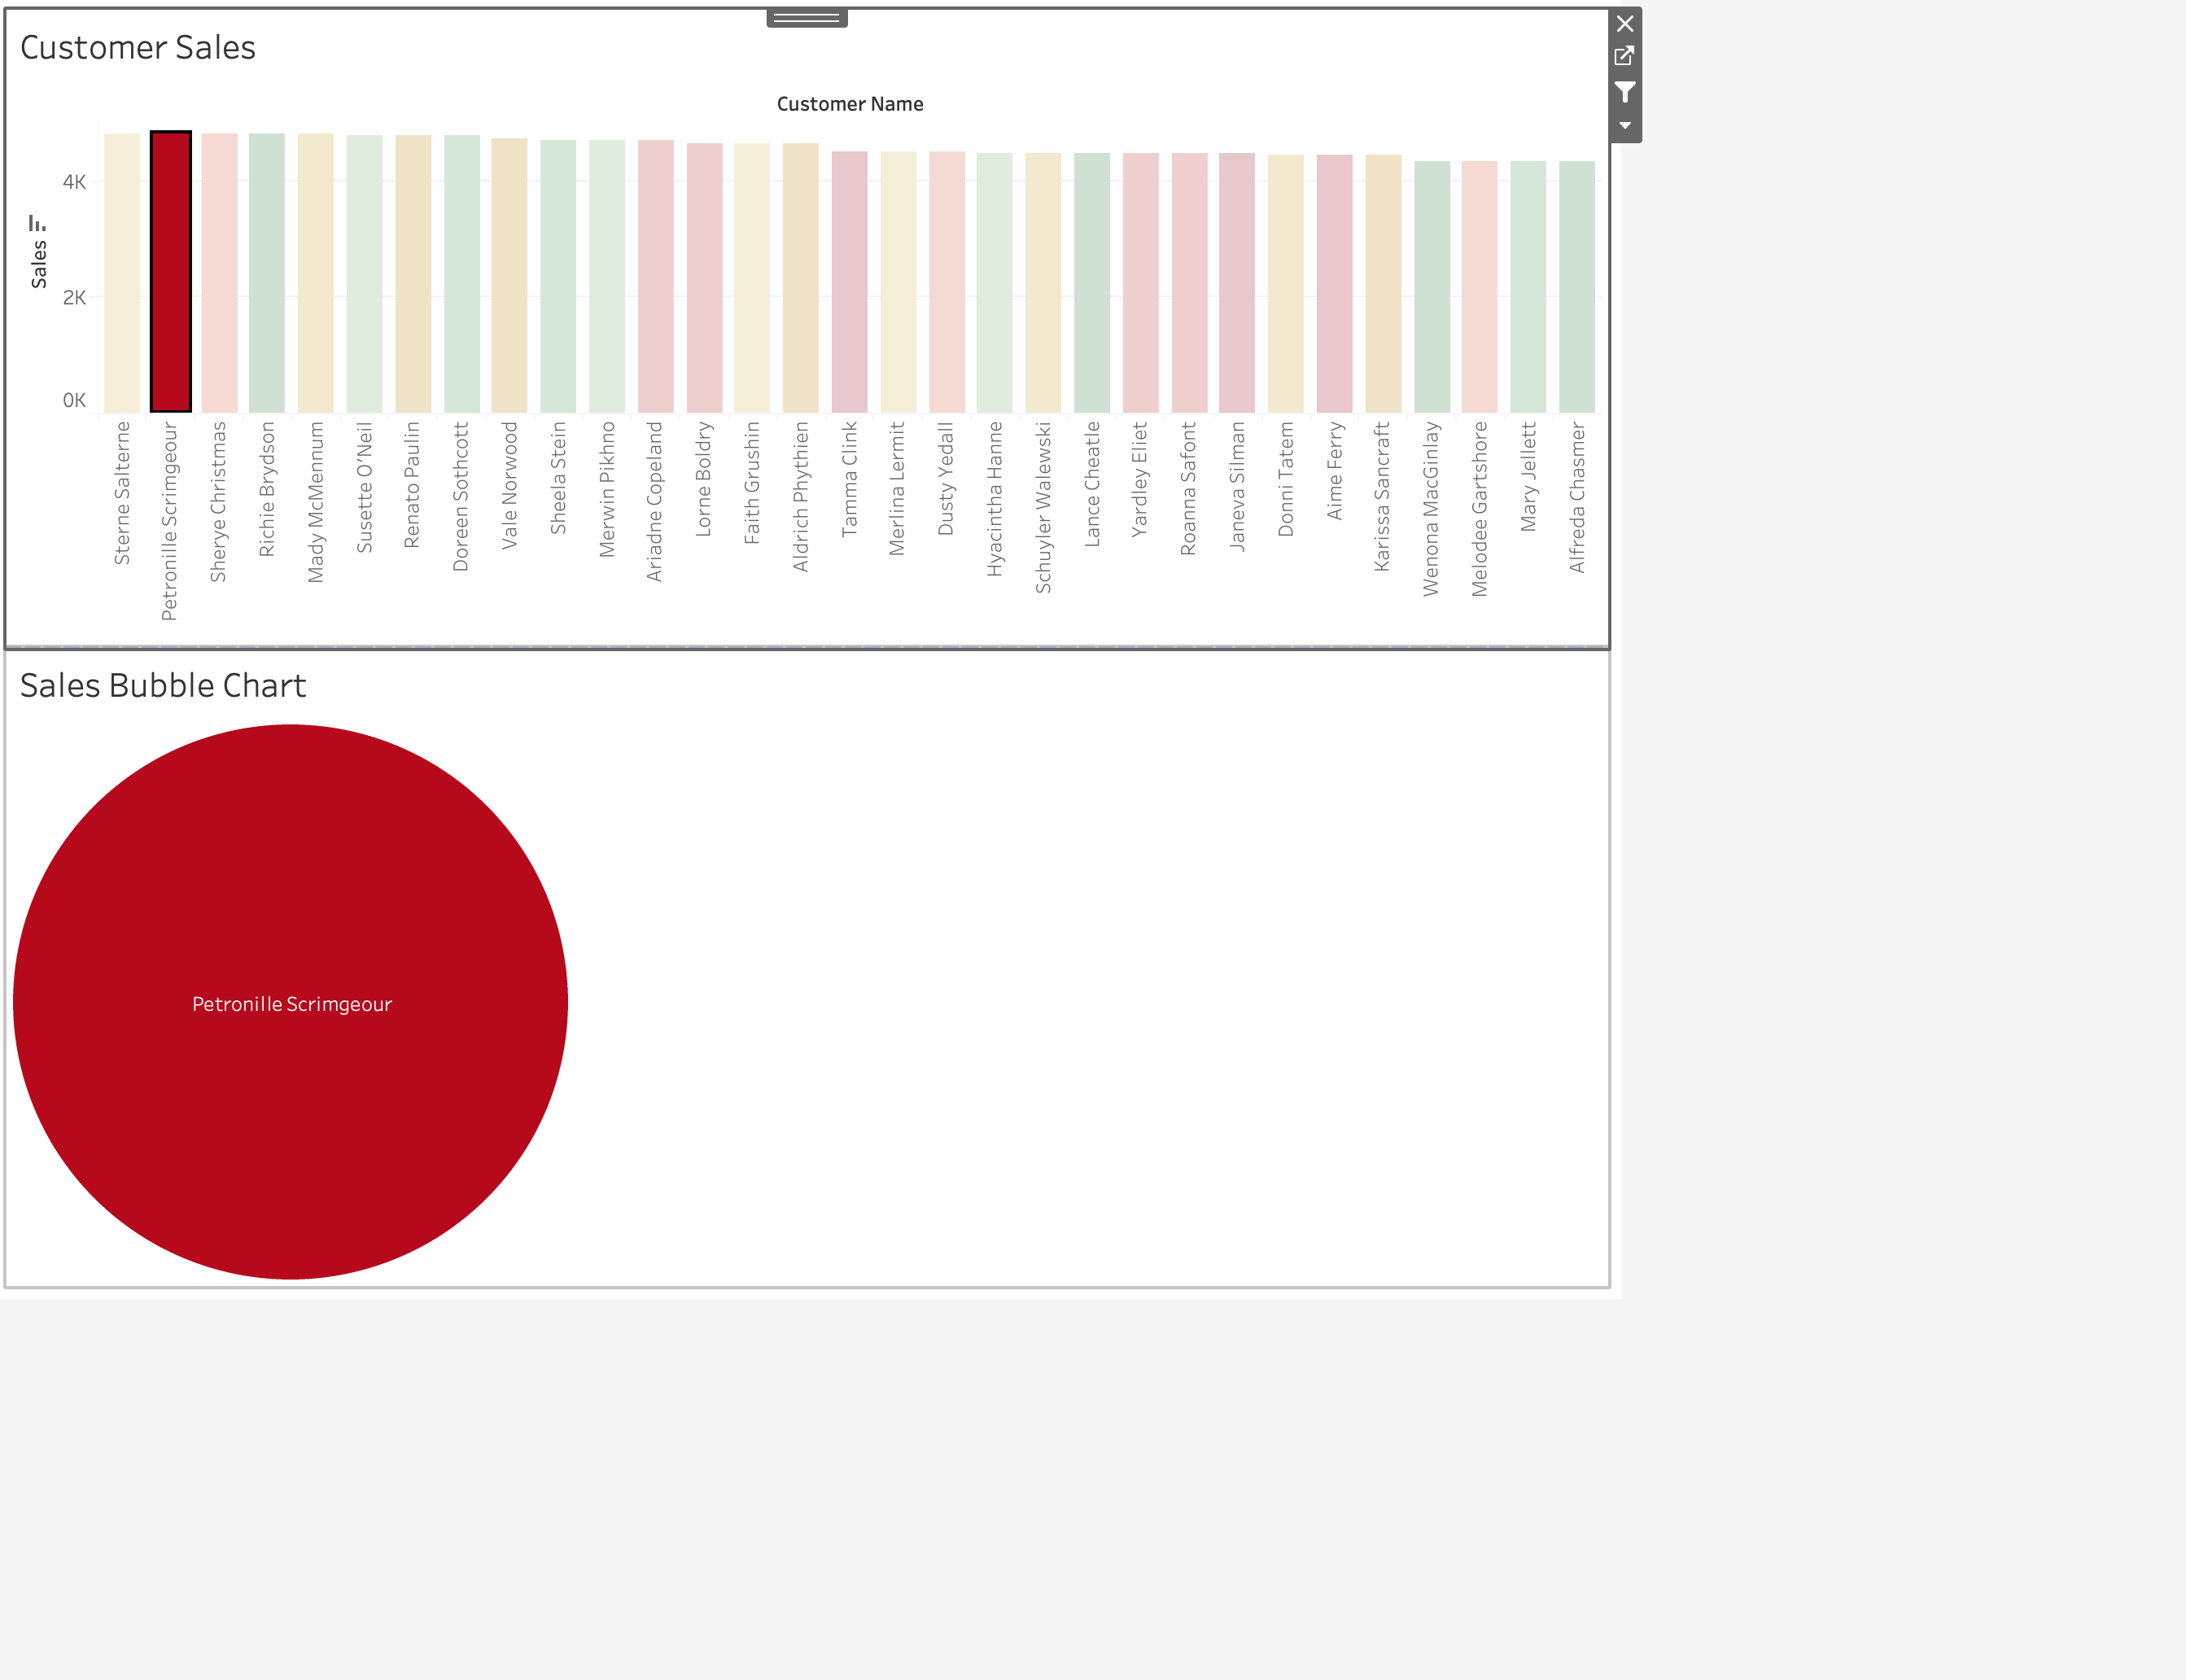

Layout of this report page (visuals, bound fields, positions):
{"tool":"tableau","page":{"name":"Dashboard - Customer Sales & Sales","canvas":[1000,800],"ordinal":0},"visuals":[{"type":"worksheet","title":"Customer Sales","mark":"Automatic","rows":["Sales"],"cols":["Customer Name"],"box":[8,8,984,392]},{"type":"worksheet","title":"Sales Bubble Chart","mark":"Circle","box":[8,400,984,392]}]}

Visuals, with their boxes on the page's 1000x800 design canvas (x1, y1, x2, y2). These are canvas units, not pixel positions in the 2186x1680 screenshot, which may show the page scaled, cropped or inside an application window:
"Customer Sales" worksheet: region(8, 8, 992, 400)
"Sales Bubble Chart" worksheet (Circle marks): region(8, 400, 992, 792)
